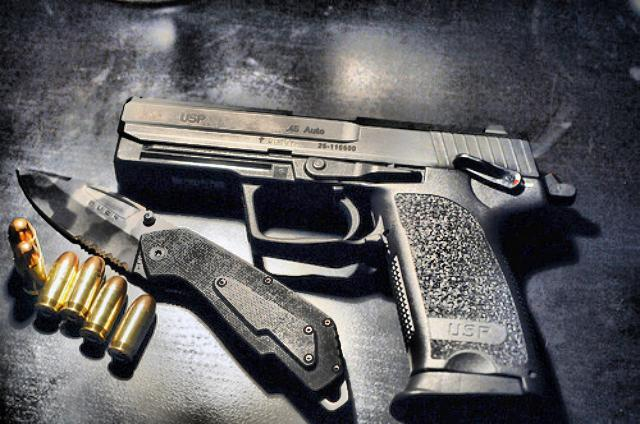pistol: (117, 92, 573, 400)
